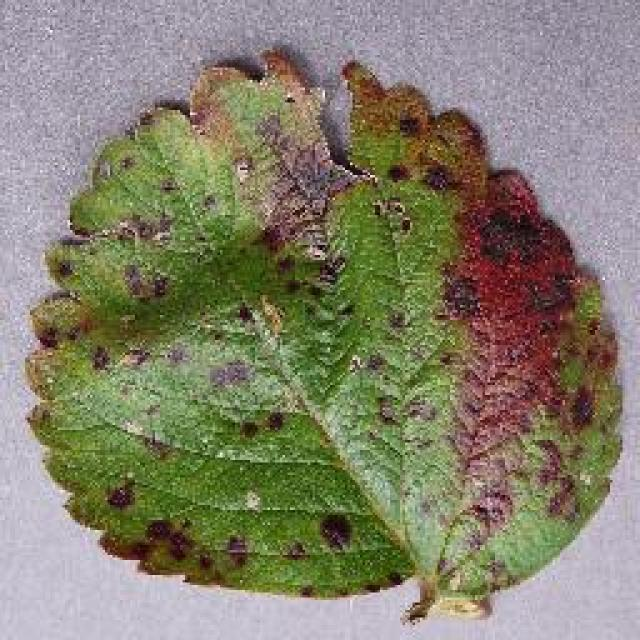Strawberry leaf scorch: (117, 128, 560, 527)
